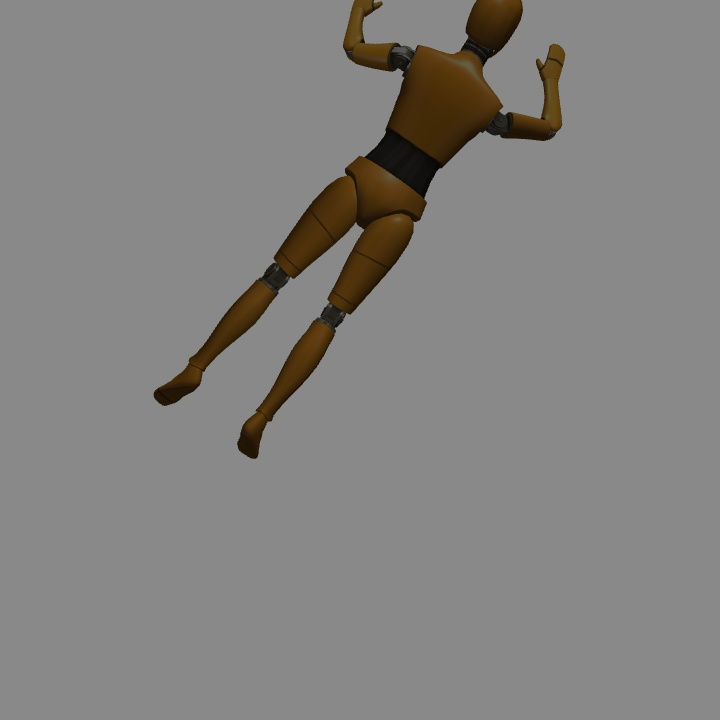victim: (151, 1, 568, 458)
